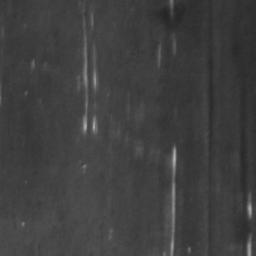Bright scratch: (83, 24, 99, 132), (170, 148, 177, 256)
